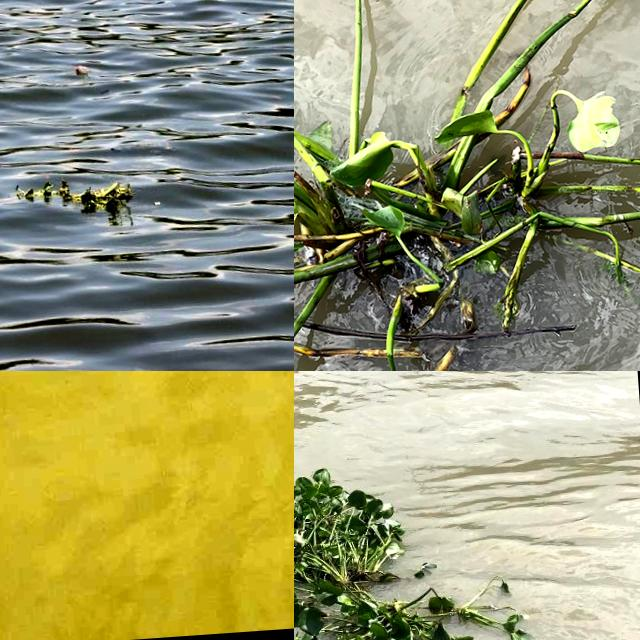water-hyacinth: (295, 1, 640, 372), (295, 424, 490, 611), (295, 565, 535, 640), (9, 175, 142, 222)
